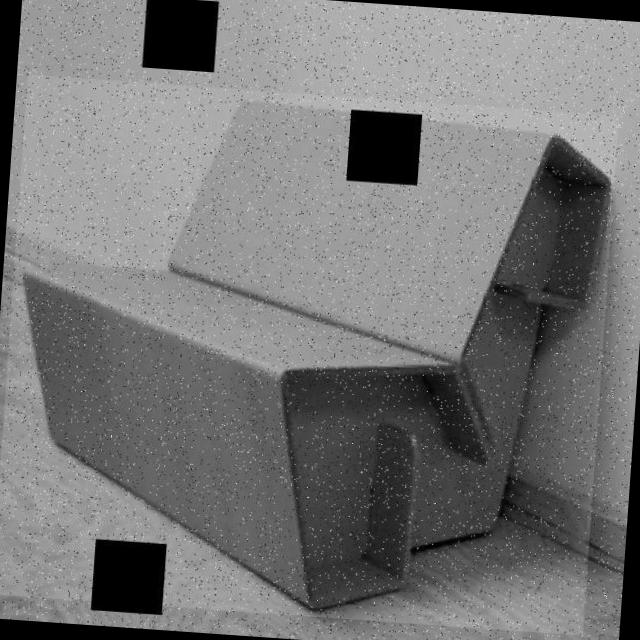box: (0, 74, 618, 635)
